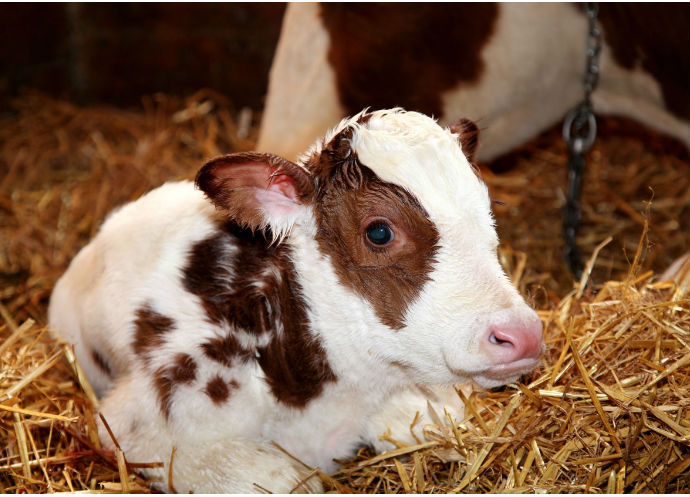bovino: (48, 102, 546, 494)
